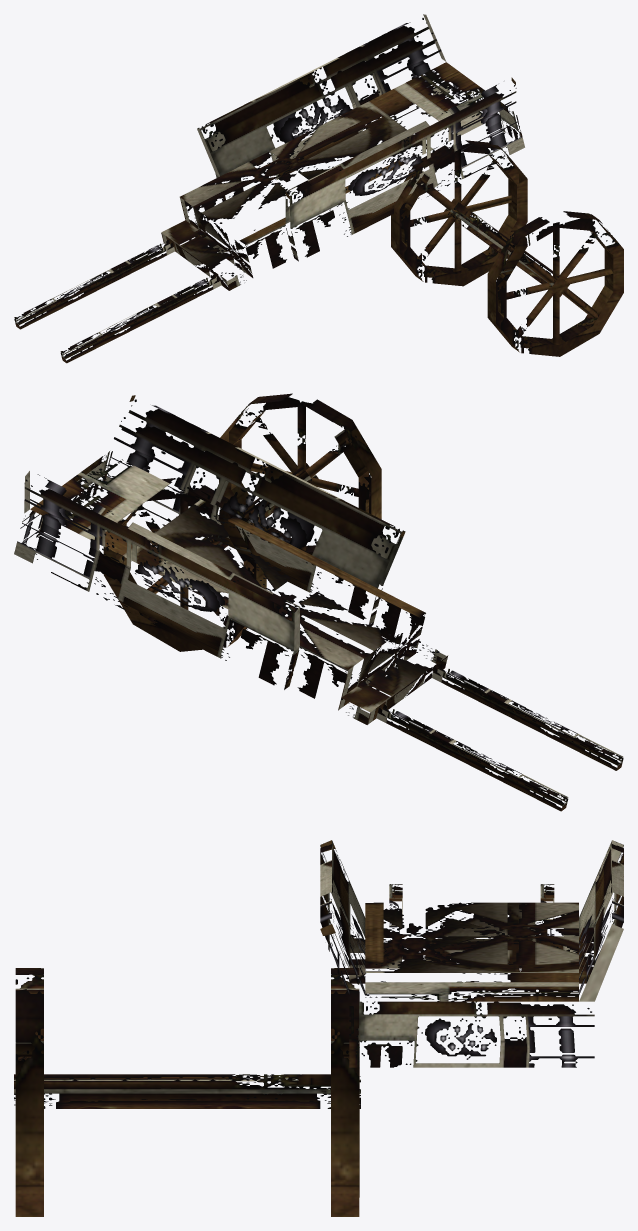
File: Carriage02.obj
The picture shows the model from 3 angles, top to bottom: view 1: azimuth 30°, elevation 25°; view 2: azimuth 150°, elevation 25°; view 3: azimuth 270°, elevation 25°; orthographic projection. The views are drawn at different scales.
Parts seen in each view (by area): view 1: Mesh_0; view 2: Mesh_0; view 3: Mesh_0.
Boxes of the visible parts, x1,y1,x2,y2 form: Mesh_0: (14, 14, 623, 363); Mesh_0: (14, 393, 623, 811); Mesh_0: (14, 840, 623, 1216).
Bounding box in the file's own units: 4.37 × 1.83 × 3.15.
1 material, 1 textured.
